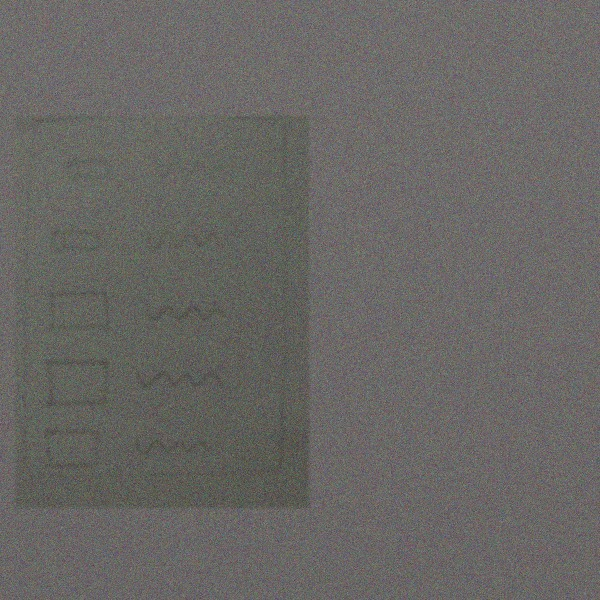switch: (47, 223, 103, 257), (59, 153, 115, 186)
text: (129, 430, 227, 460), (132, 365, 229, 395), (141, 295, 227, 326), (144, 225, 227, 255), (149, 157, 225, 182)
text_input: (40, 358, 113, 408), (43, 290, 117, 335), (39, 427, 101, 472)
